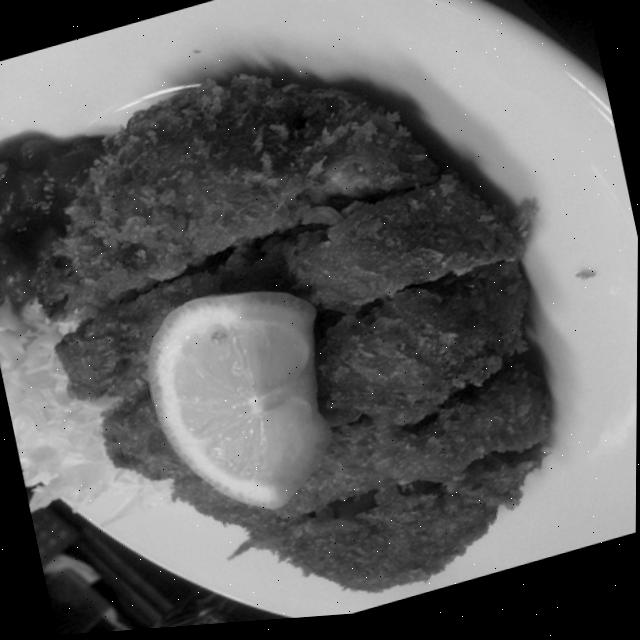炸货点心: (0, 0, 594, 640)
